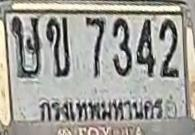2: (159, 19, 178, 77)
3: (112, 18, 132, 76)
4: (136, 18, 155, 76)
7: (86, 17, 106, 78)
A02: (46, 16, 70, 76)
A39: (10, 16, 42, 78)
BKK: (37, 95, 169, 125)
